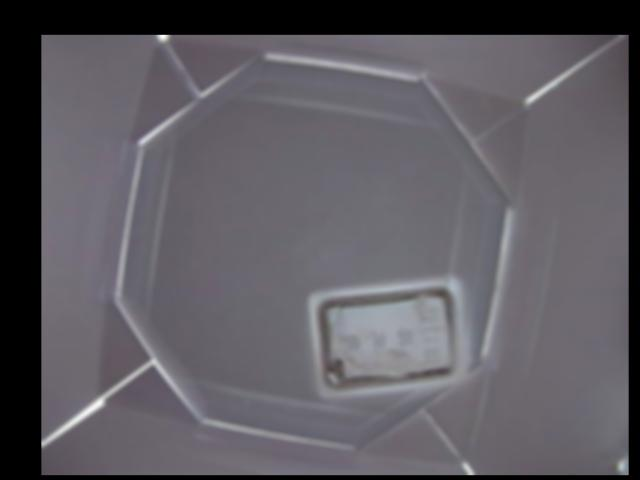Medicine: (312, 274, 467, 395)
